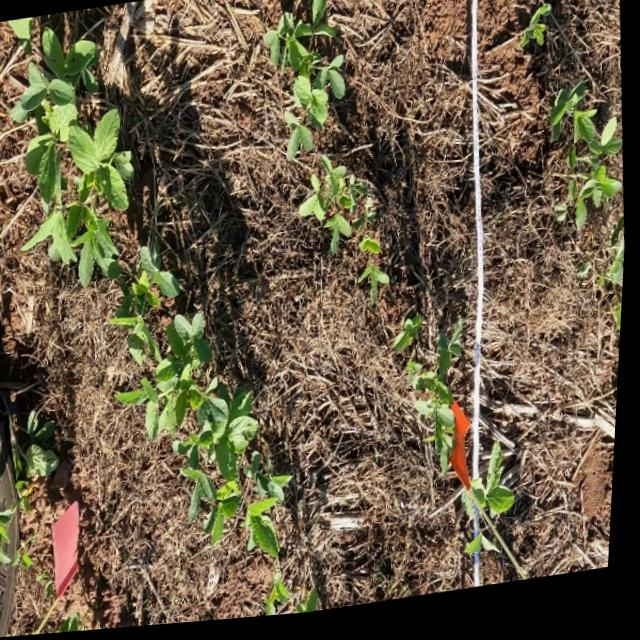soy_plant: (116, 249, 293, 563), (13, 29, 135, 286), (301, 160, 393, 309), (264, 0, 346, 165), (552, 92, 624, 236), (0, 411, 64, 573), (410, 330, 466, 479), (467, 452, 520, 528), (605, 227, 627, 349), (519, 13, 551, 57), (272, 576, 297, 621), (398, 323, 426, 358), (471, 538, 505, 563), (57, 614, 94, 635)
